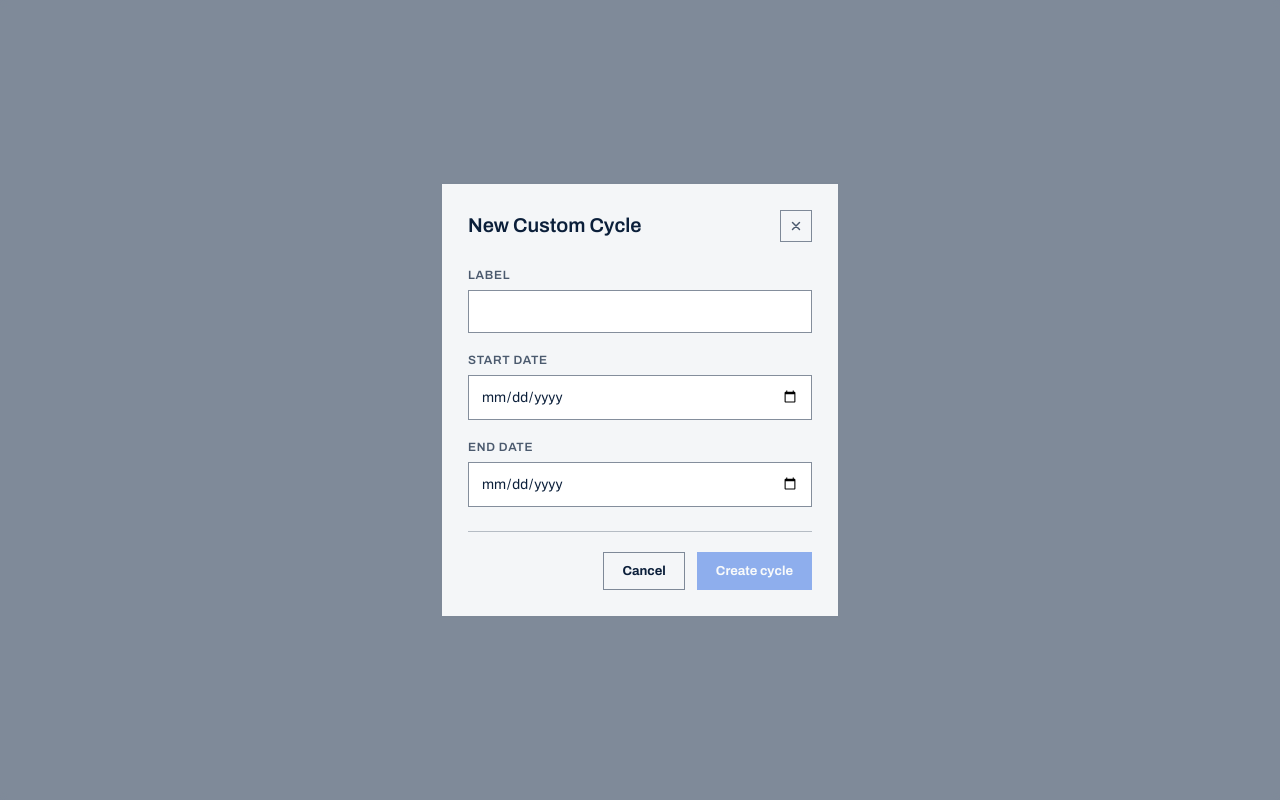
it: CreateCycleDialog › keeps the submit button disabled until a label is entered
expect the button "Create cycle" is disabled: met, box [697,552,812,590]
Type "Special Review" into the field labelled "Label" at (640, 311), box [468,290,812,333]
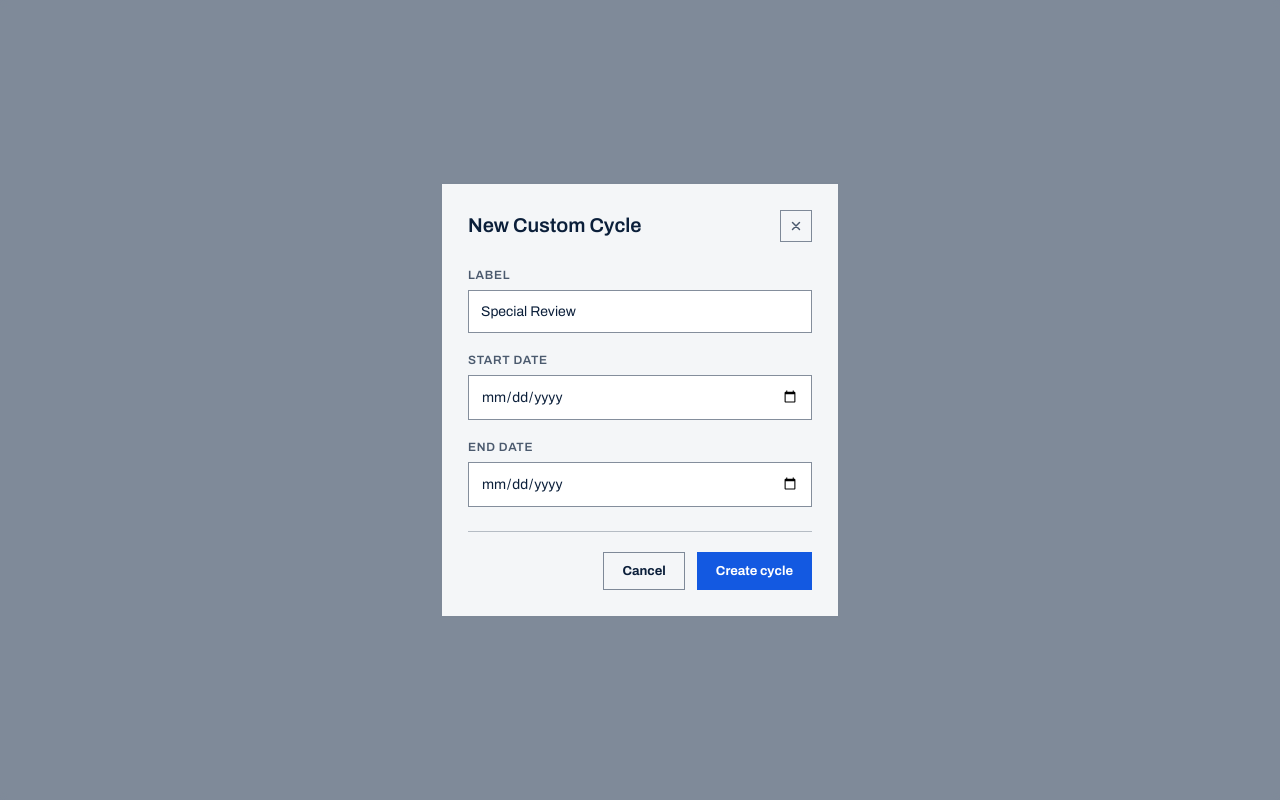
expect the button "Create cycle" is enabled: met, box [697,552,812,590]
